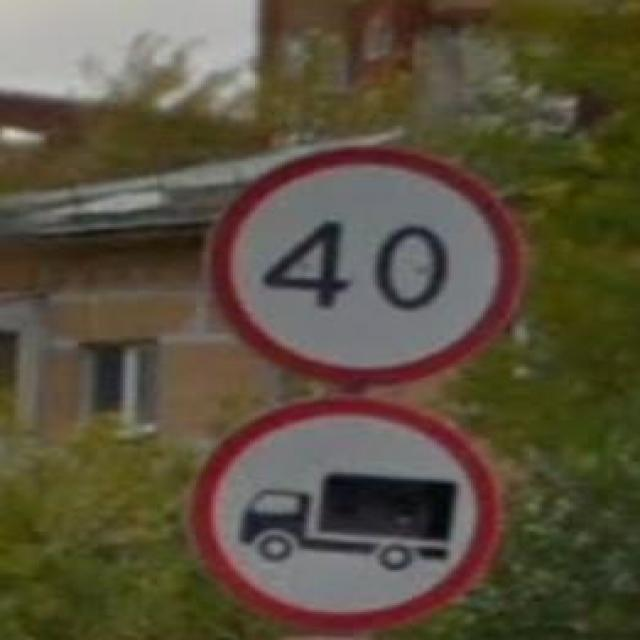Ograniczenie predkosci do 40: (203, 145, 522, 385)
